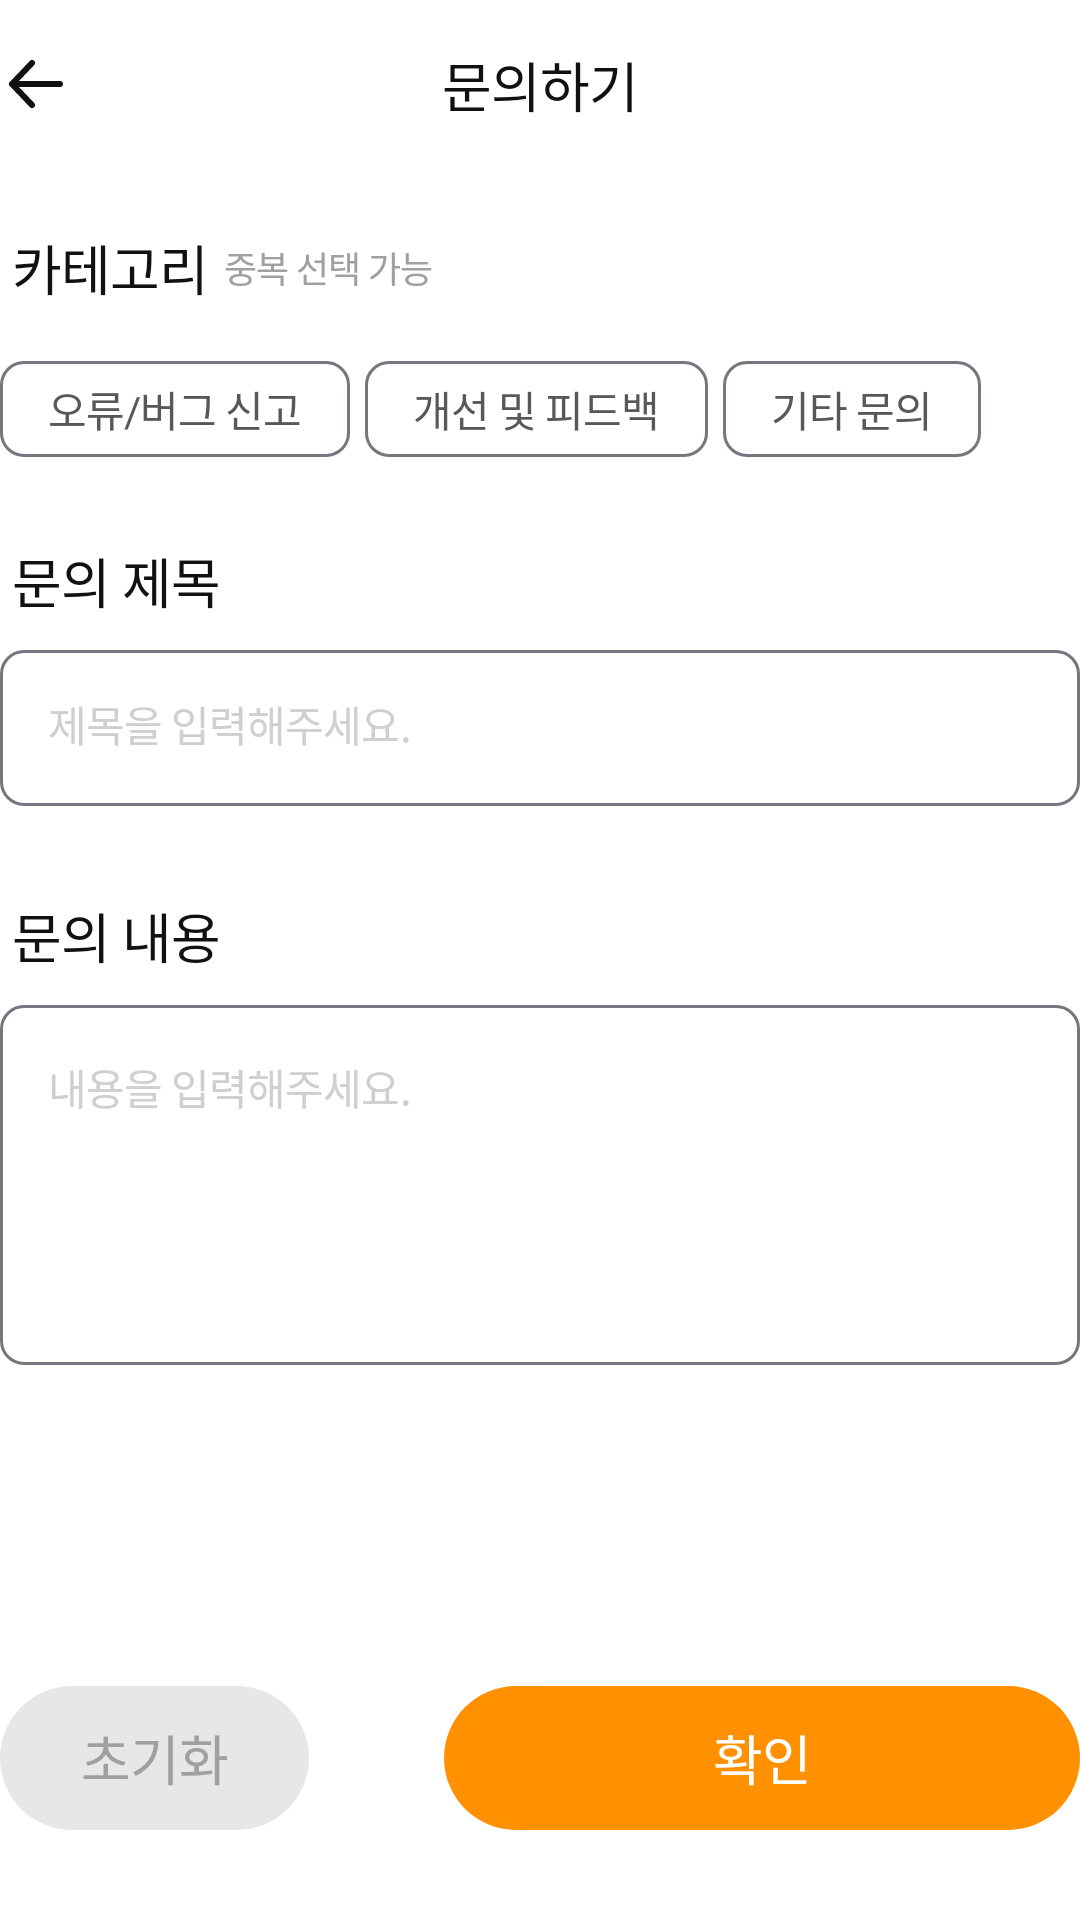

Point at icon controls on the screen. Image size 1080×1920, points as (x,y).
arrow back: (36,84)
